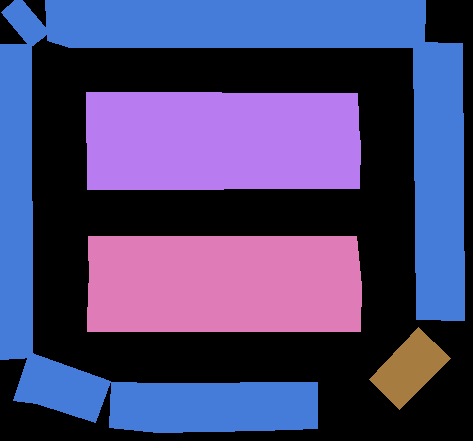parkingspot: (45, 0, 425, 47), (413, 42, 464, 320), (86, 92, 359, 143), (87, 138, 360, 189), (88, 236, 361, 286), (87, 282, 361, 331), (109, 382, 317, 432), (0, 44, 32, 359), (13, 352, 110, 422), (369, 327, 450, 409), (1, 0, 49, 47)
